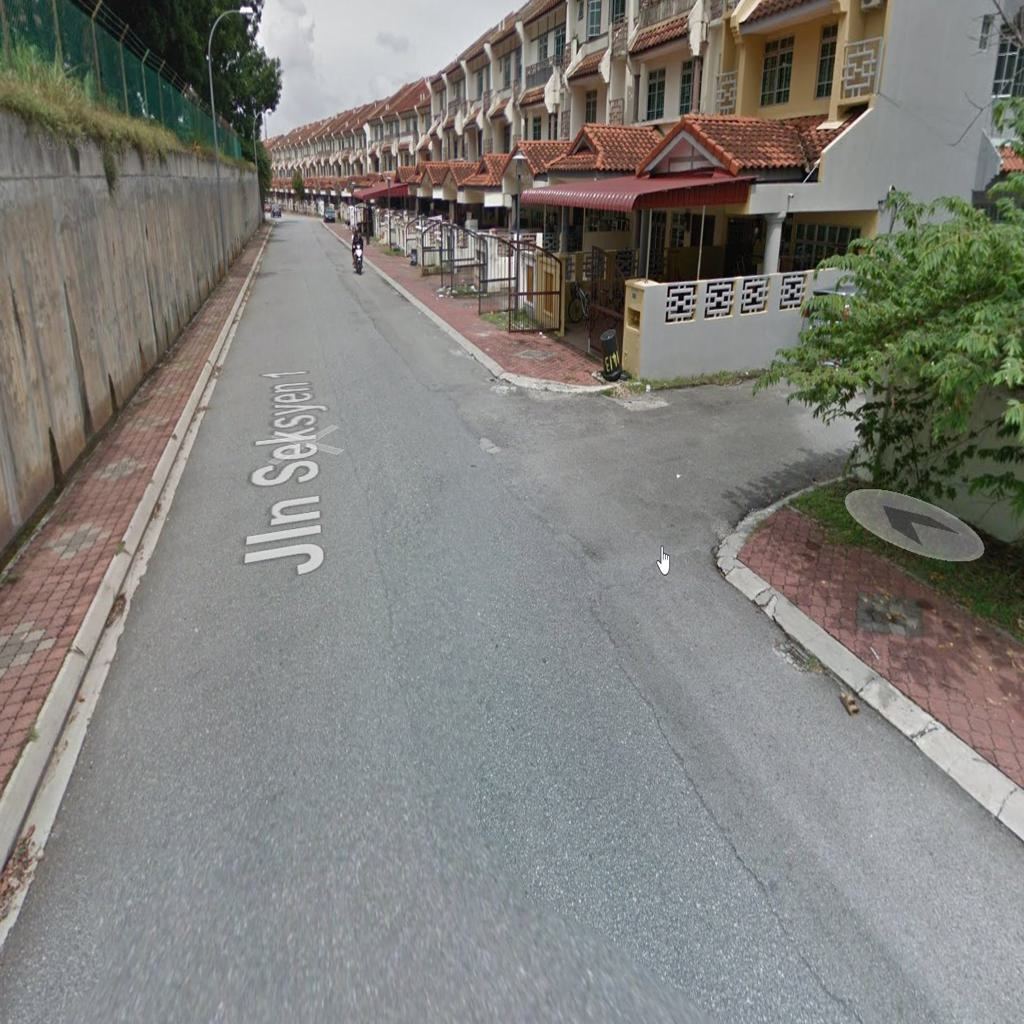Junction: (479, 321, 864, 604)
